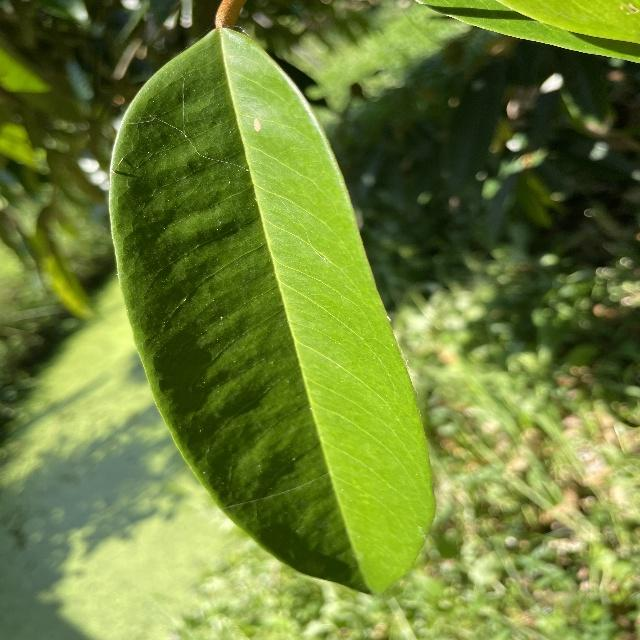No Disease: (102, 19, 445, 612)
